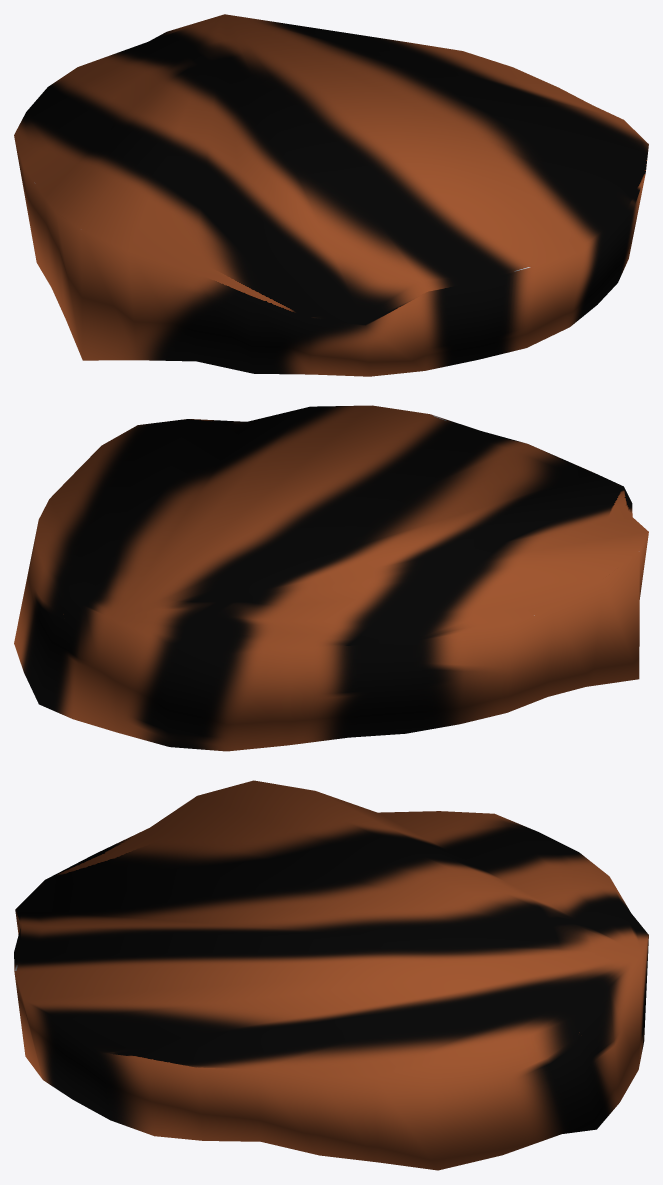
The model's file is PATTY.fbx.
The picture shows the model from 3 angles, top to bottom: view 1: azimuth 30°, elevation 25°; view 2: azimuth 150°, elevation 25°; view 3: azimuth 270°, elevation 25°; orthographic projection.
Parts seen in each view (by area): view 1: Cylinder; view 2: Cylinder; view 3: Cylinder.
Part boxes in pixels (left/top/right/bottom): Cylinder: left=14, top=14, right=648, bottom=376; Cylinder: left=14, top=405, right=648, bottom=751; Cylinder: left=14, top=780, right=648, bottom=1170.
Size of the model in its own units: 214 by 51.24 by 217.
1 material, 1 textured.
